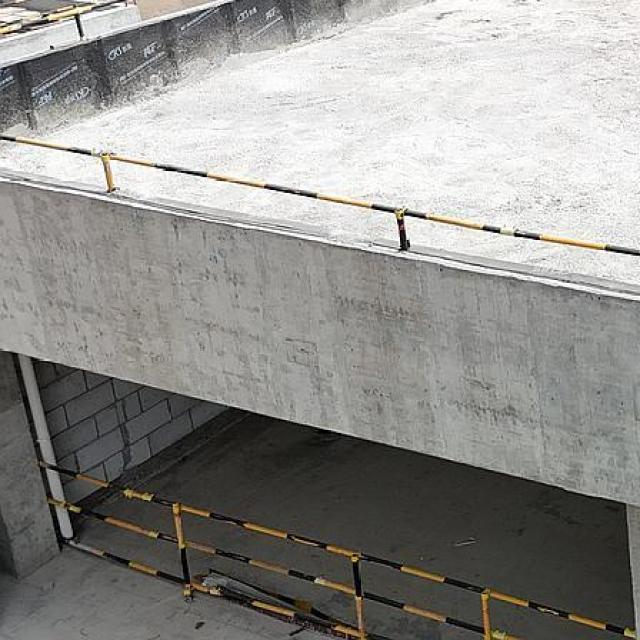edge_guardrail: (34, 458, 639, 640), (0, 133, 640, 256), (0, 0, 125, 41)
